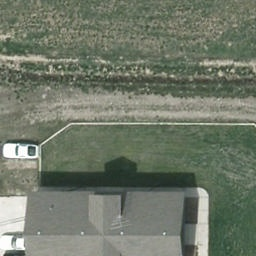car: (3, 144, 39, 160)
pickup: (1, 235, 25, 251)
